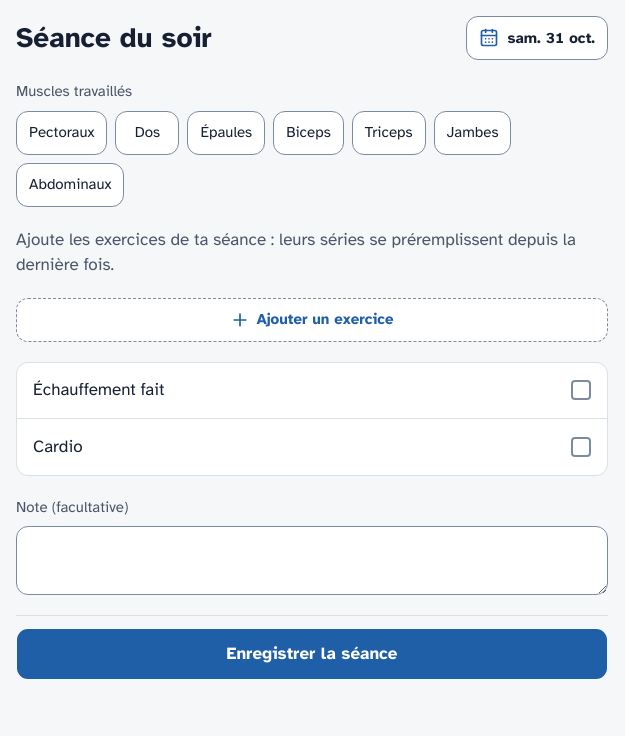
Test: WorkoutEditor › les muscles choisis filtrent l'ajout d'exercice ; la recherche porte sur tout (D28)
The width and height of the screenshot is (625, 736).
Click the button "Épaules".
click(226, 132)  # box [188,110,265,154]
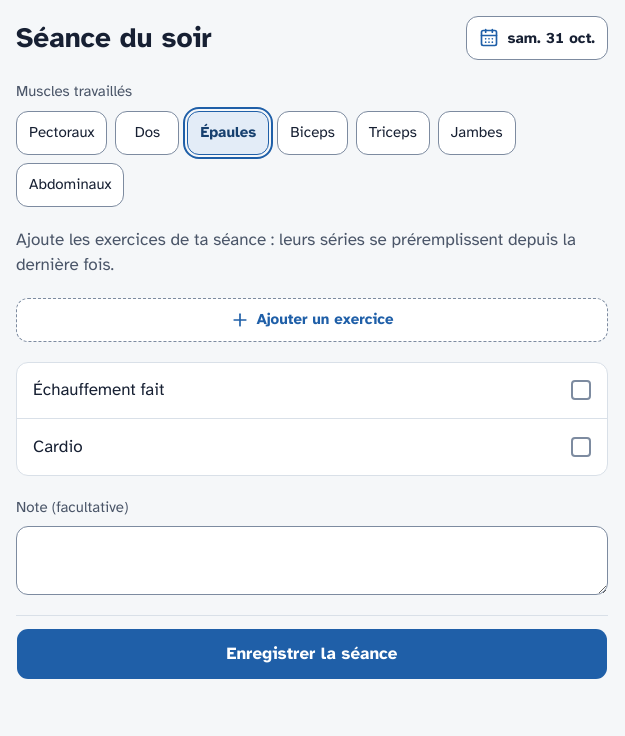
Now the button "Épaules" is pressed, box [188,110,269,154]
Click the button "Ajouter un exercice".
click(312, 320)  # box [16,298,608,342]
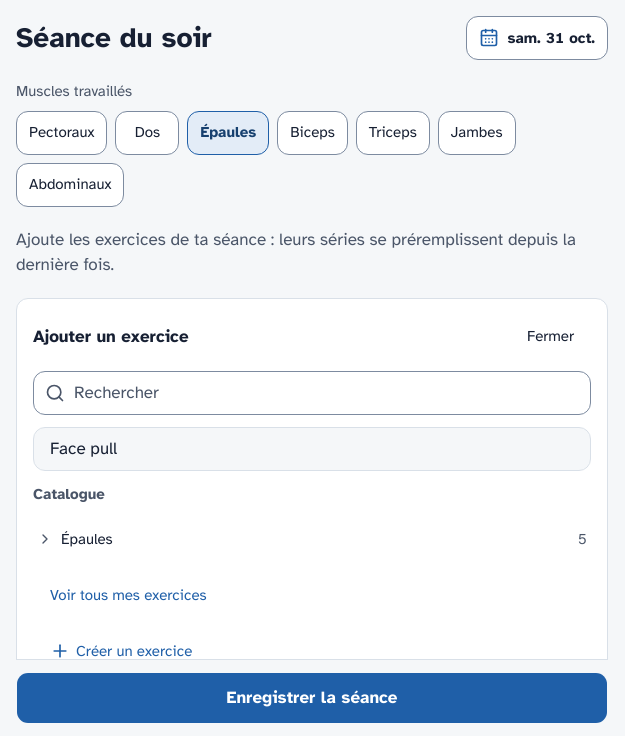
Now the buttons read "Face pull", in this order, box [33,426,591,470]
Now the button "Épaules 5" is shown, box [33,517,591,561]
Click the button "Voir tous mes exercices".
click(128, 595)  # box [33,573,224,617]
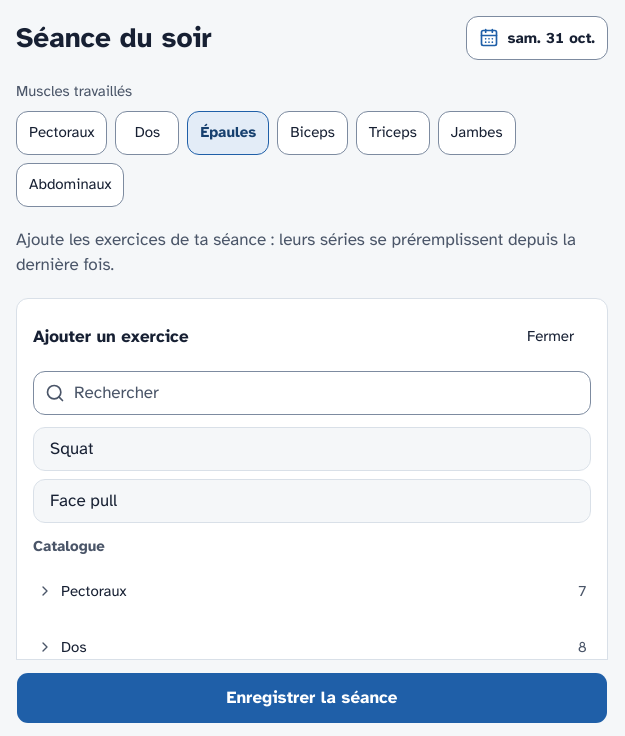
Now the buttons read "Squat", "Face pull", in this order, box [33,426,591,470]; [33,478,591,522]
Click the button "Fermer".
click(550, 336)  # box [510,314,591,358]
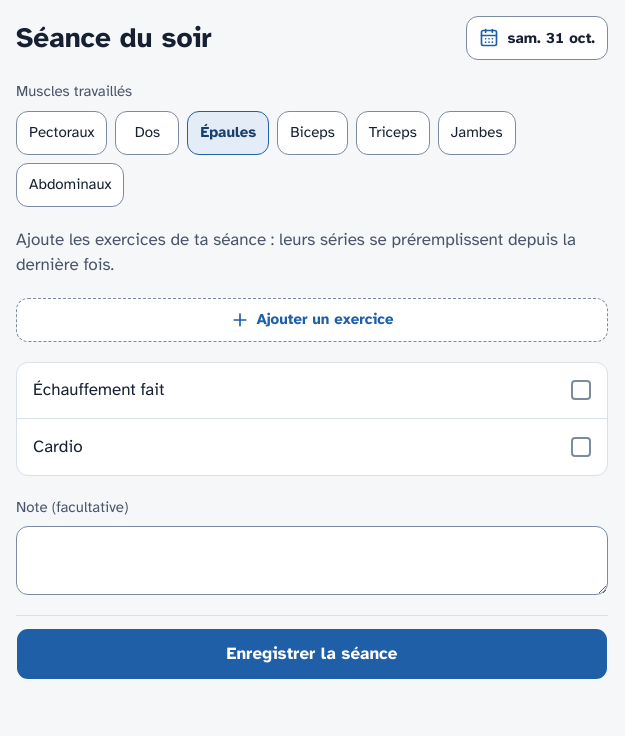
Click the button "Ajouter un exercice".
click(312, 320)  # box [16,298,608,342]
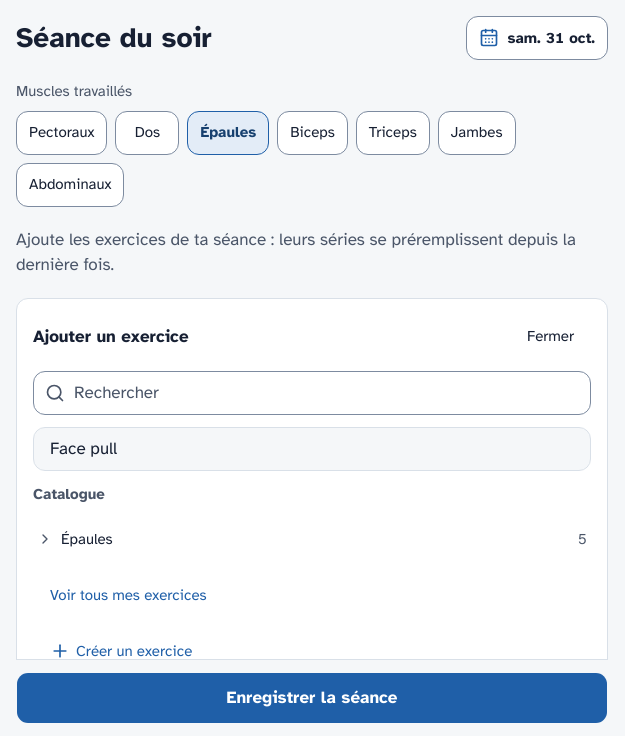
Type "squ" into the search field named "Rechercher un exercice".
click(312, 392); type("squ")  # box [33,370,591,414]
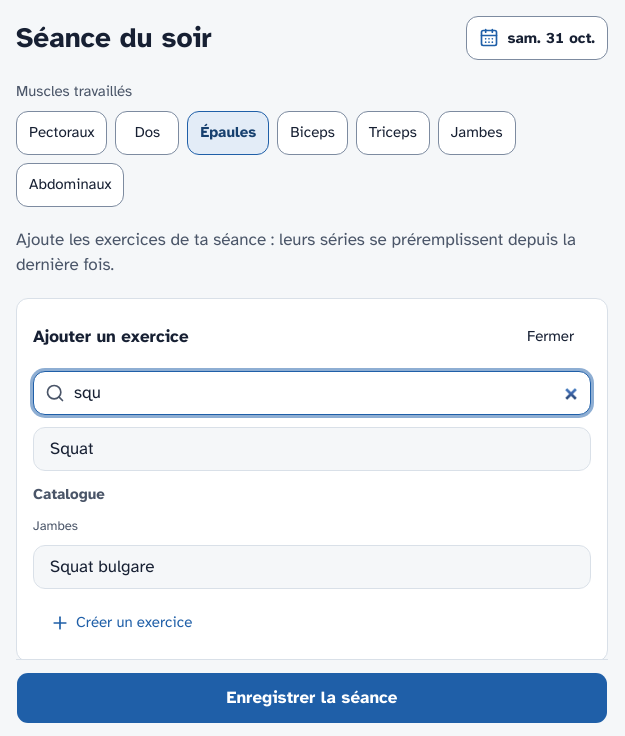
Now the buttons read "Squat", in this order, box [33,426,591,470]
